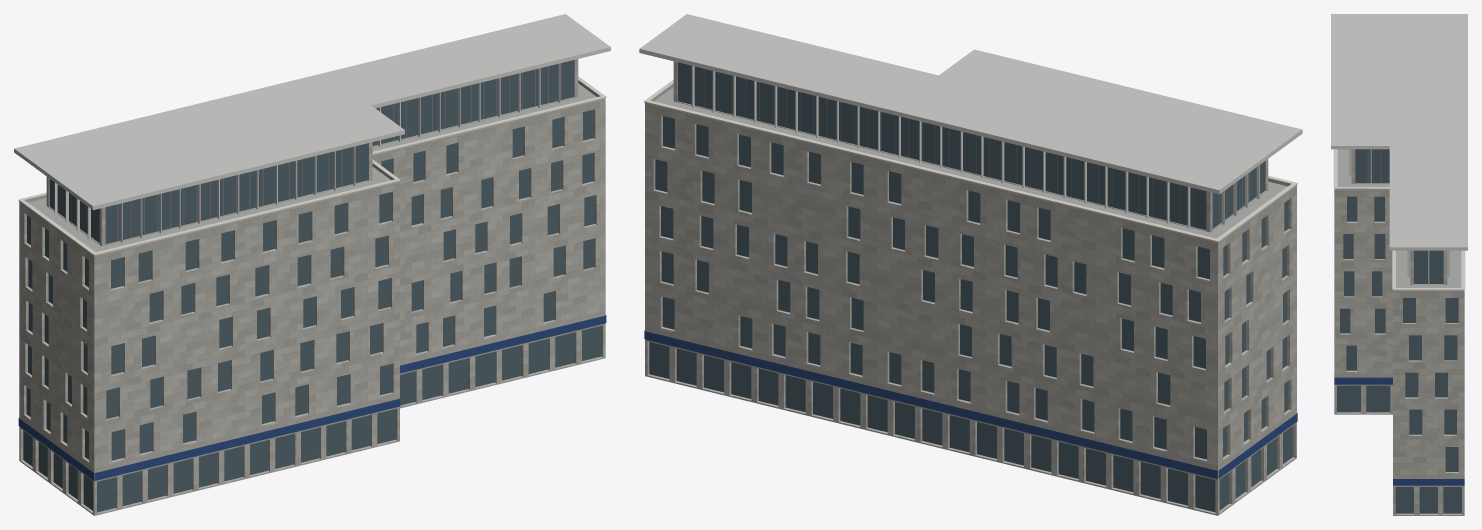
The picture shows the model from 3 angles, left to right: view 1: azimuth 30°, elevation 25°; view 2: azimuth 150°, elevation 25°; view 3: azimuth 270°, elevation 25°; orthographic projection. The views are drawn at different scales.
Visible parts, largest first — view 1: hall108__wall, hall108__glass, hall108__canopyTop, hall108__trim, hall108__accentA, hall108__roof, hall108__canopy, hall108__parapet, hall108__frame; view 2: hall108__wall, hall108__glass, hall108__canopyTop, hall108__trim, hall108__accentA, hall108__roof, hall108__canopy, hall108__frame, hall108__parapet; view 3: hall108__canopyTop, hall108__wall, hall108__glass, hall108__roof, hall108__trim, hall108__accentA, hall108__canopy, hall108__parapet.
Part boxes in pixels (x1,y1,x2,y2): hall108__wall: (19,59,605,515); hall108__glass: (23,60,601,512); hall108__canopyTop: (14,14,610,206); hall108__trim: (18,63,606,255); hall108__accentA: (18,315,606,480); hall108__roof: (28,83,596,252); hall108__canopy: (14,47,610,210); hall108__parapet: (19,80,605,257); hall108__frame: (64,63,561,241); hall108__wall: (645,61,1296,515); hall108__glass: (649,62,1292,512); hall108__canopyTop: (640,14,1301,190); hall108__trim: (644,66,1297,242); hall108__accentA: (644,330,1297,478); hall108__roof: (654,87,1287,238); hall108__canopy: (639,49,1302,194); hall108__frame: (691,65,1250,226); hall108__parapet: (645,83,1296,244); hall108__canopyTop: (1331,14,1467,247); hall108__wall: (1334,149,1464,515); hall108__glass: (1337,149,1461,513); hall108__roof: (1337,149,1461,287); hall108__trim: (1333,149,1465,290); hall108__accentA: (1334,377,1464,485); hall108__canopy: (1331,146,1467,250); hall108__parapet: (1334,189,1464,292).
Size of the model in its own units: 51.01 by 27.55 by 12.65.
Materials: 9 (2 with a texture image).
